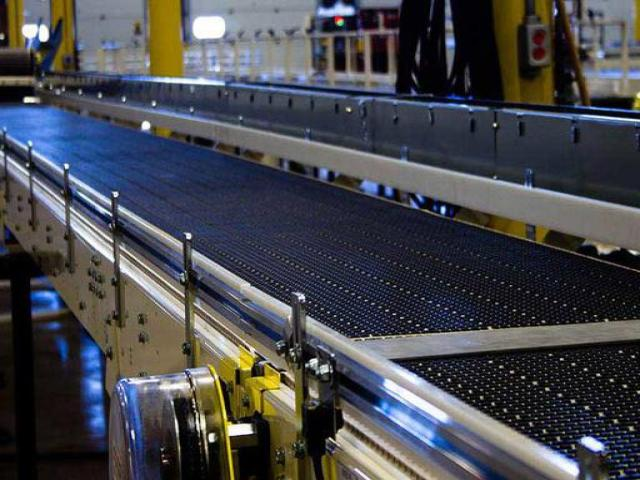conveyor: (0, 102, 639, 479)
